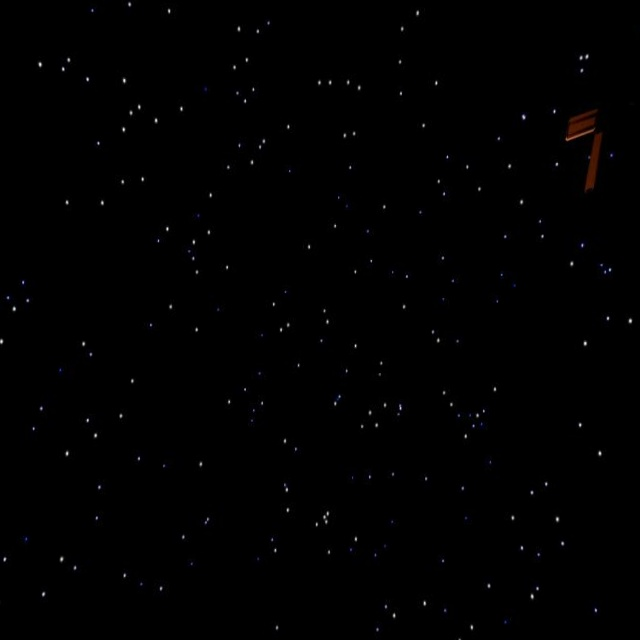medium_debris: (550, 76, 640, 202)
